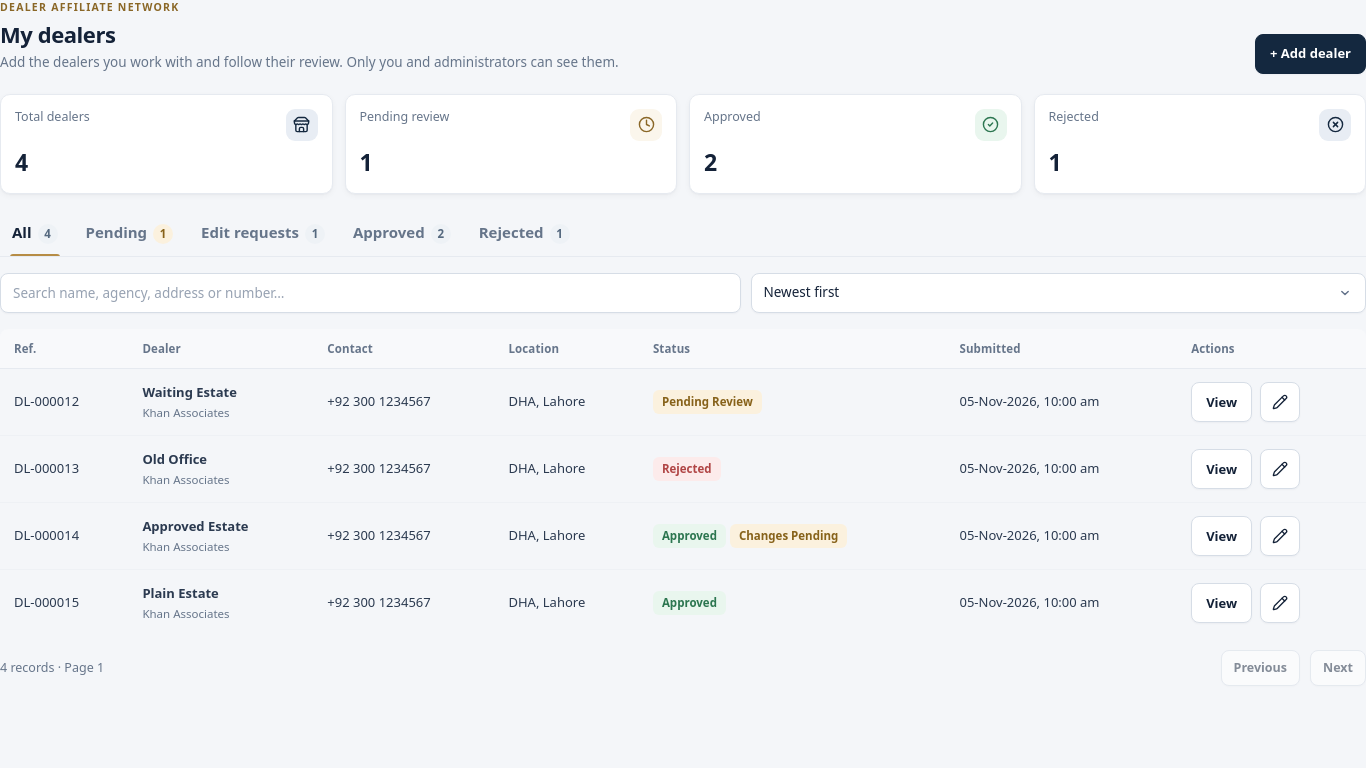
an agent's My dealers › edits a dealer waiting for review in place
Click the button named "Edit Waiting Estate": coordinates (1280, 402) [1260,382,1300,422]
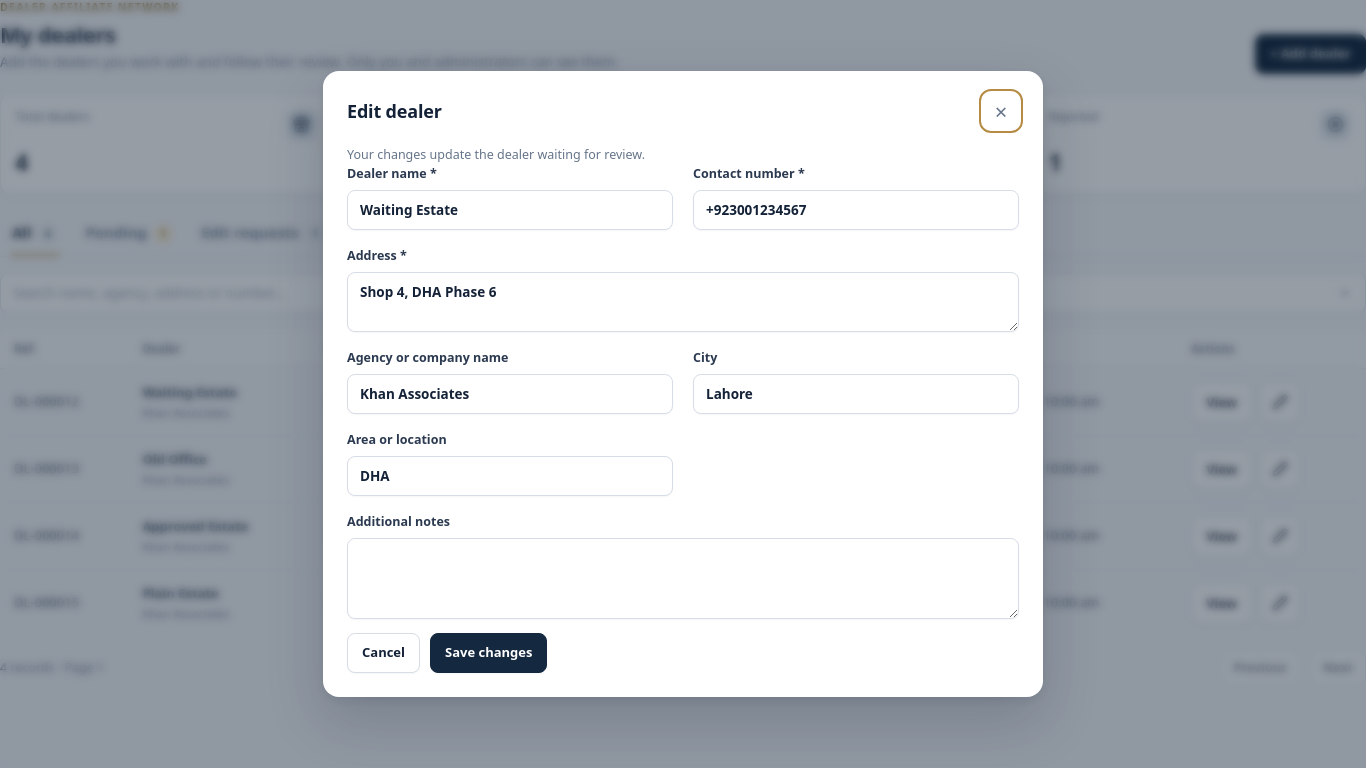
Check: the dialog "Edit dealer" shows "Your changes update the dealer waiting for review.", box [347,146,645,163]
Replace the text in the field labelled "Dealer name *" with "Waiting Estate & Co": coordinates (510, 210) [347,190,673,230]
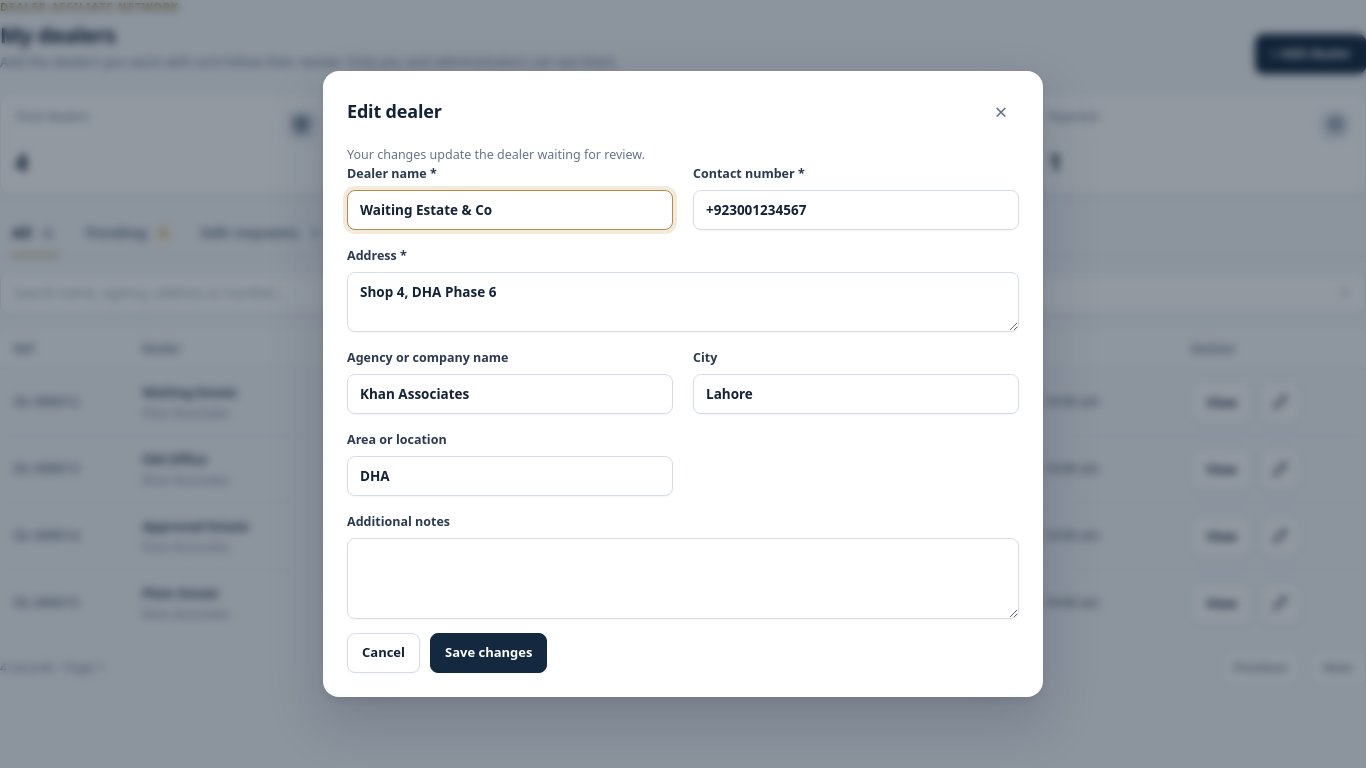
Click the button "Save changes": coordinates (489, 653) [430,633,548,673]
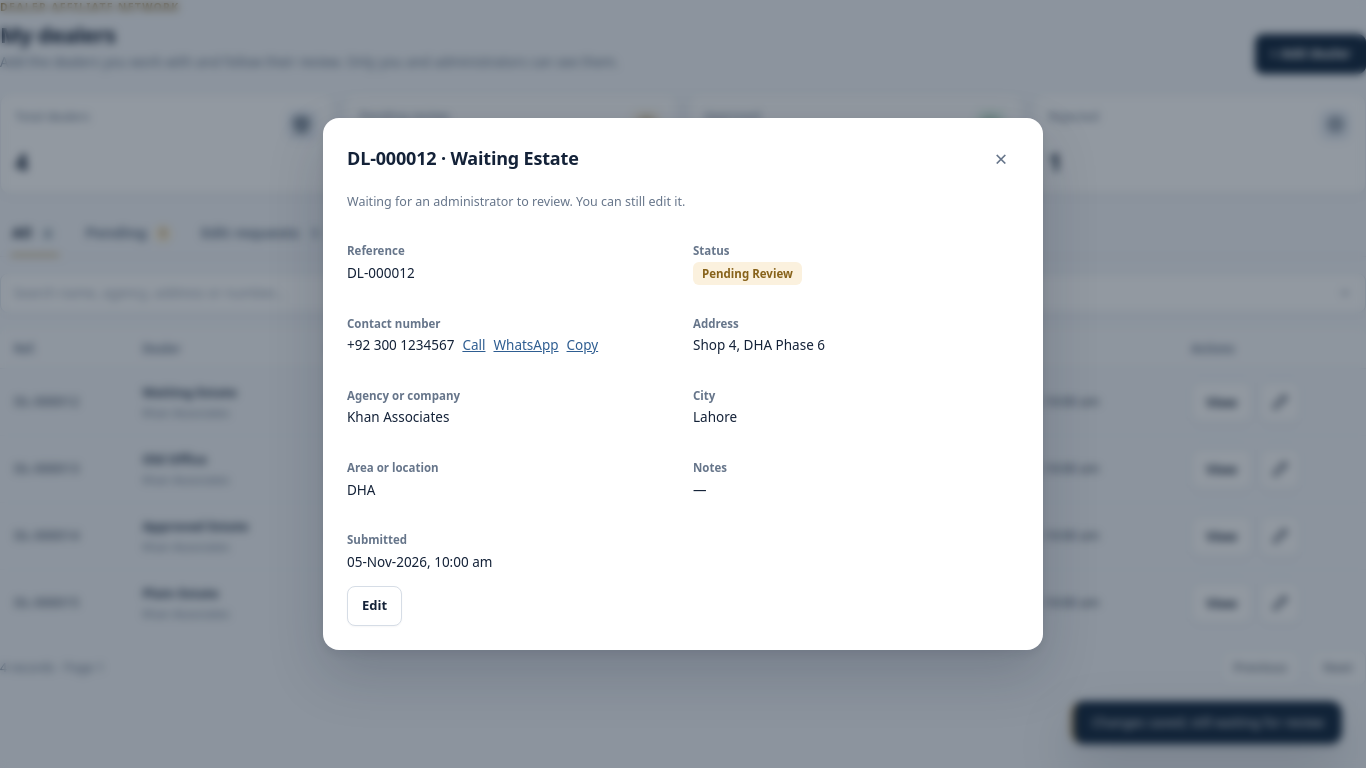
Check: the text "Changes saved; still waiting for review" is shown, box [1071,700,1342,744]
